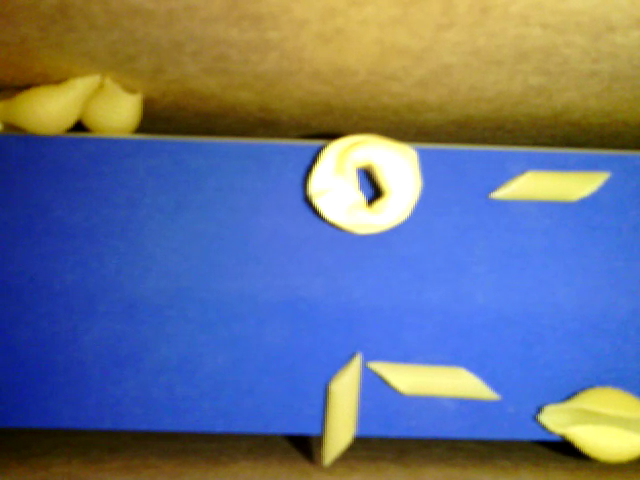penne: (367, 357, 497, 400), (320, 347, 366, 463), (485, 165, 612, 207)
shell: (535, 381, 639, 468), (1, 69, 100, 134), (84, 75, 144, 137)
tortellini: (303, 131, 427, 237)
